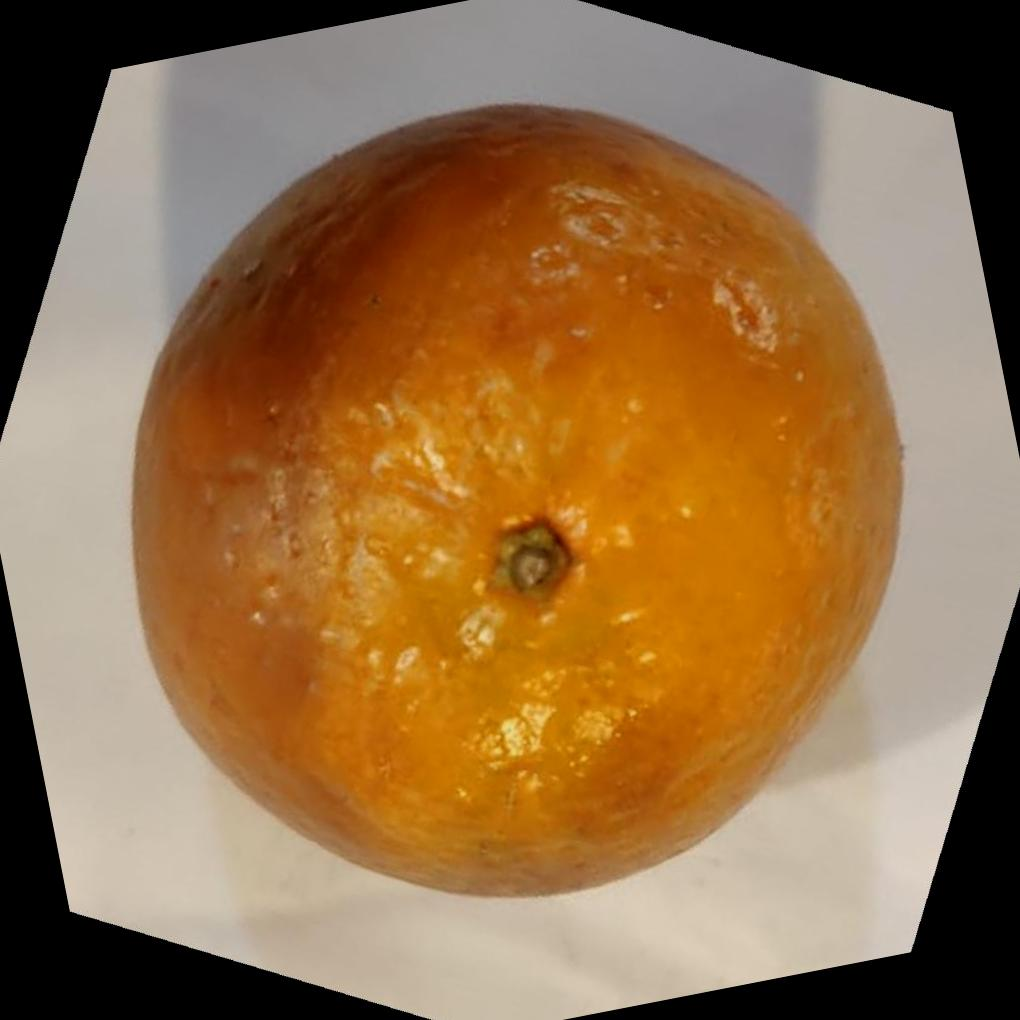FreshOrange: (127, 97, 904, 897)
